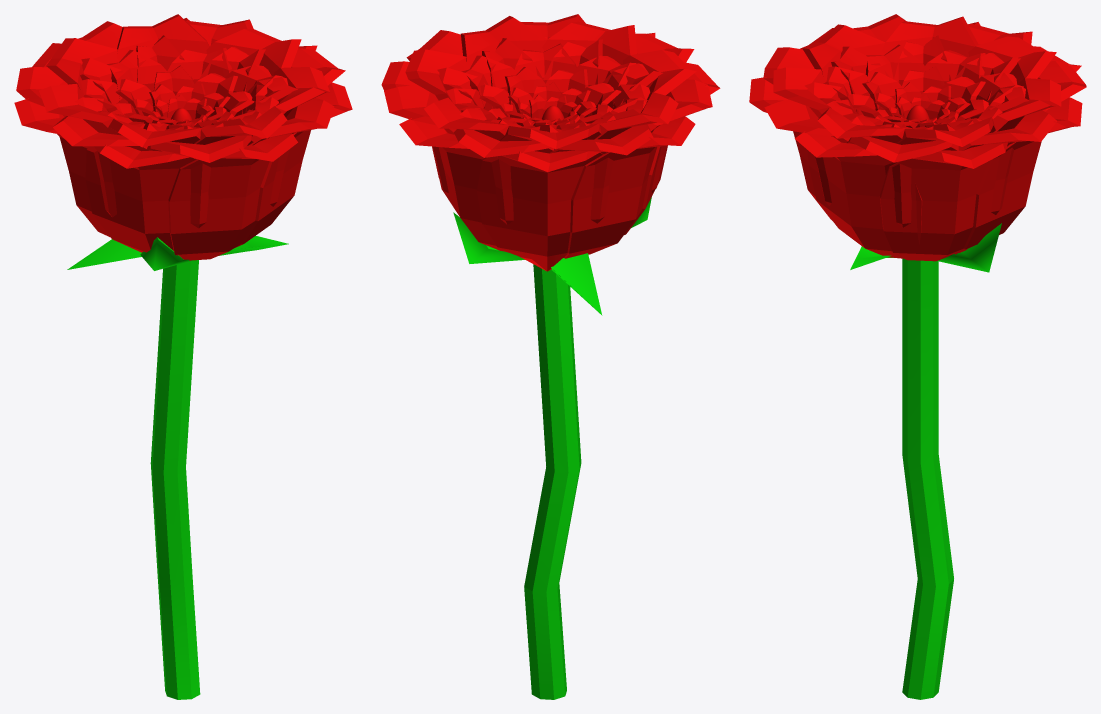
Rendered from rose_fbx.fbx.
3 views of the same model, side by side, from view 1: azimuth 30°, elevation 25°; view 2: azimuth 150°, elevation 25°; view 3: azimuth 270°, elevation 25° (orthographic).
Parts seen in each view (by area): view 1: pCylinder1, pSphere13, pSphere12, pSphere14, pSphere19, pSphere11, pCube1, pSphere18, pSphere25, pSphere26, pSphere20, pSphere24 (+19 smaller); view 2: pCylinder1, pSphere10, pSphere11, pSphere9, pCube1, pSphere16, pSphere17, pSphere28, pSphere27, pSphere26, pSphere15, pSphere22 (+22 smaller); view 3: pCylinder1, pSphere8, pSphere14, pSphere9, pSphere21, pSphere15, pSphere23, pSphere22, pSphere20, pSphere24, pSphere25, pSphere28 (+20 smaller).
Boxes of the visible parts, x1,y1,x2,y2 form: pCylinder1: [150, 260, 200, 699]; pSphere13: [168, 133, 297, 260]; pSphere12: [85, 145, 195, 252]; pSphere14: [235, 82, 352, 247]; pSphere19: [144, 135, 253, 228]; pSphere11: [14, 98, 109, 236]; pCube1: [67, 236, 288, 270]; pSphere18: [52, 116, 147, 217]; pSphere25: [116, 14, 209, 61]; pSphere26: [206, 29, 301, 75]; pSphere20: [249, 98, 334, 206]; pSphere24: [46, 38, 118, 93]; pCylinder1: [524, 264, 581, 699]; pSphere10: [477, 150, 602, 271]; pSphere11: [564, 116, 695, 258]; pSphere9: [399, 118, 514, 254]; pCube1: [453, 197, 651, 315]; pSphere16: [453, 129, 553, 224]; pSphere17: [549, 124, 653, 223]; pSphere28: [542, 21, 636, 64]; pSphere27: [461, 16, 547, 68]; pSphere26: [405, 49, 469, 112]; pSphere15: [384, 85, 456, 195]; pSphere22: [622, 50, 696, 98]; pCylinder1: [902, 258, 953, 699]; pSphere8: [879, 142, 1008, 261]; pSphere14: [794, 131, 922, 258]; pSphere9: [954, 97, 1082, 254]; pSphere21: [847, 136, 958, 227]; pSphere15: [958, 110, 1056, 214]; pSphere23: [882, 16, 978, 57]; pSphere22: [802, 24, 885, 80]; pSphere20: [764, 99, 850, 205]; pSphere24: [968, 36, 1056, 84]; pSphere25: [993, 78, 1061, 132]; pSphere28: [773, 67, 831, 117].
Bounding box in the file's own units: 5.57 × 11.25 × 5.55.
